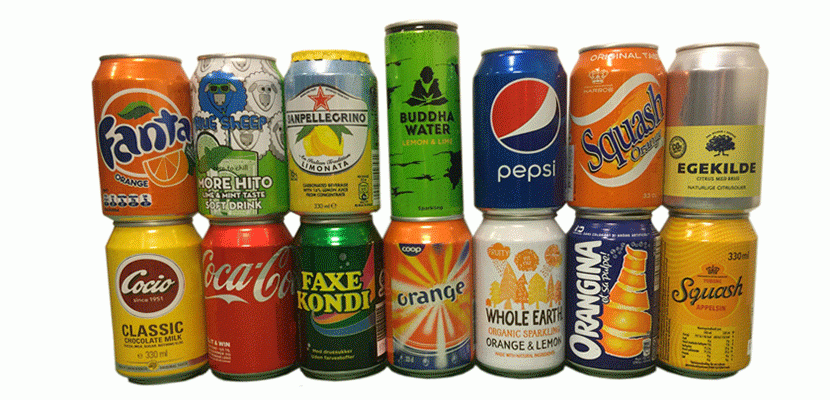Can: (358, 8, 608, 261), (562, 41, 777, 232), (580, 224, 762, 382), (82, 193, 212, 391), (86, 45, 204, 252), (180, 215, 314, 384), (282, 41, 386, 228), (469, 200, 569, 389)
